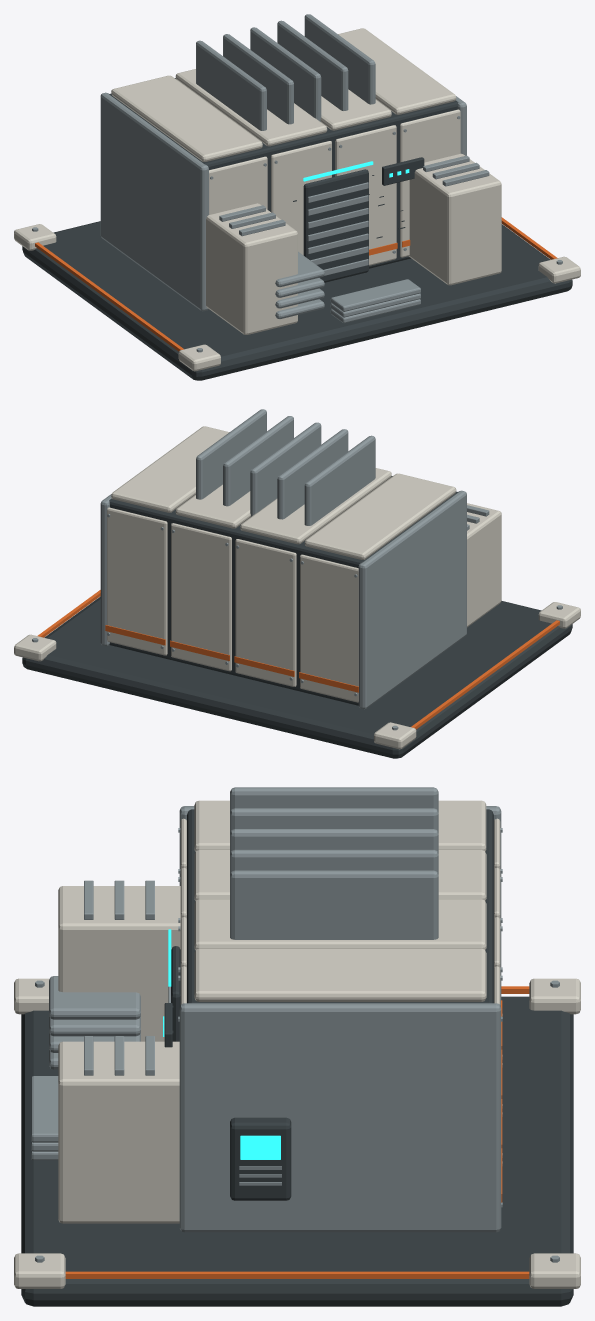
Rendered from SM_CompositeWorks_Body.002.fbx.
3 views of the same model, one above another, from view 1: azimuth 30°, elevation 25°; view 2: azimuth 150°, elevation 25°; view 3: azimuth 270°, elevation 25° (orthographic). The views are drawn at different scales.
Visible parts, largest first — view 1: SM_CompositeWorks_Body.002; view 2: SM_CompositeWorks_Body.002; view 3: SM_CompositeWorks_Body.002.
Boxes of the visible parts, bbox=[...] form: SM_CompositeWorks_Body.002: bbox=[14, 14, 580, 380]; SM_CompositeWorks_Body.002: bbox=[14, 409, 580, 758]; SM_CompositeWorks_Body.002: bbox=[14, 787, 580, 1306].
Size of the model in its own units: 572 by 462 by 303.
